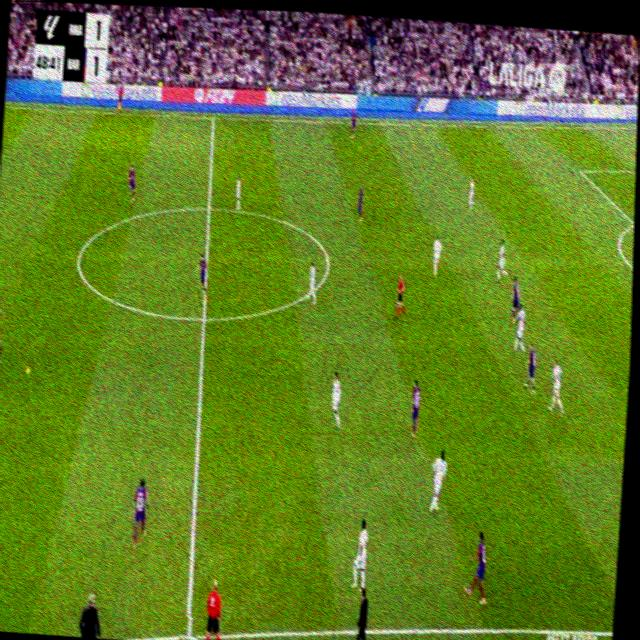bigarea_top_inner: (575, 161, 584, 177)
halfcircle_bottom: (197, 304, 210, 332)
halfcircle_top: (202, 195, 216, 219)
midline_bottom_intersection: (179, 615, 198, 640)
midline_top_intersection: (210, 109, 217, 125)
top_arc_area_intersection: (630, 214, 634, 230)
